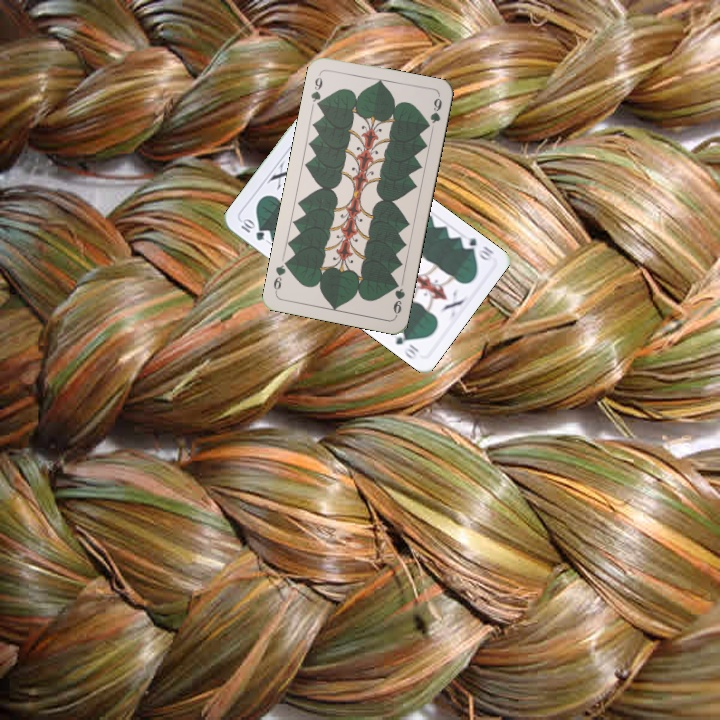G10: (457, 231, 497, 263), (237, 214, 267, 243)
G9: (389, 277, 408, 319), (307, 70, 325, 111)
